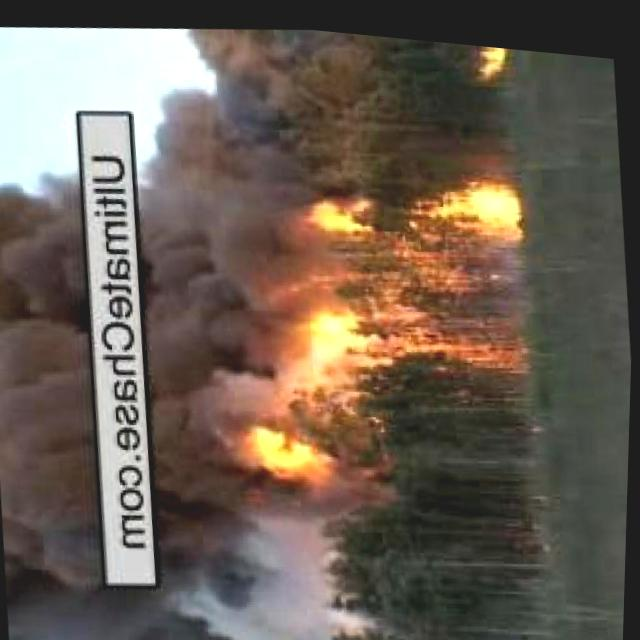helmet: (291, 146, 525, 372), (182, 395, 373, 506), (460, 35, 511, 81)
